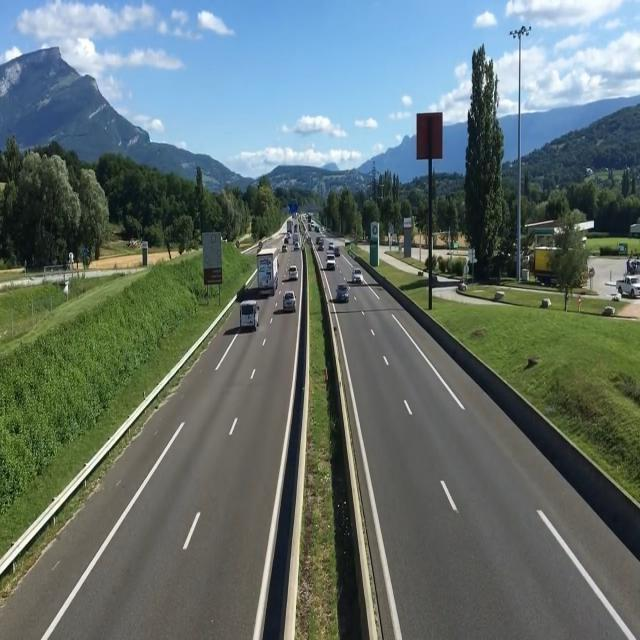Car: (283, 291, 297, 311), (335, 284, 349, 302), (288, 265, 299, 280), (352, 268, 362, 282), (281, 245, 288, 252)
Truck: (255, 247, 280, 296)
Van: (238, 299, 262, 330), (326, 253, 336, 270)
